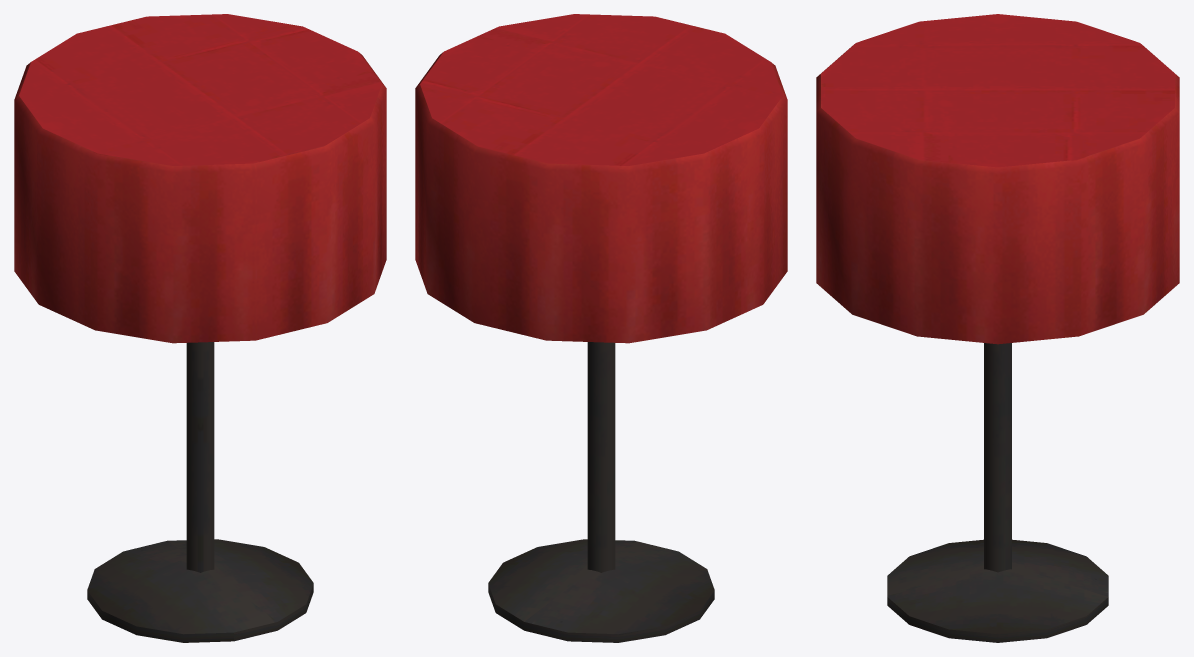
File: table_round_tall_club.fbx
The picture shows the model from 3 angles, left to right: view 1: azimuth 30°, elevation 25°; view 2: azimuth 150°, elevation 25°; view 3: azimuth 270°, elevation 25°; orthographic projection.
Parts seen in each view (by area): view 1: mesh_0, mesh_2, mesh_1; view 2: mesh_0, mesh_2, mesh_1; view 3: mesh_0, mesh_2, mesh_1.
Part boxes in pixels (x1,y1,x2,y2): mesh_0: [14, 14, 386, 343]; mesh_2: [87, 539, 313, 642]; mesh_1: [186, 342, 214, 572]; mesh_0: [415, 14, 787, 343]; mesh_2: [488, 539, 714, 642]; mesh_1: [587, 342, 615, 572]; mesh_0: [816, 14, 1179, 344]; mesh_2: [887, 539, 1108, 642]; mesh_1: [984, 343, 1011, 572].
Size of the model in its own units: 76.9 by 115 by 74.97.
1 material, 1 textured.
